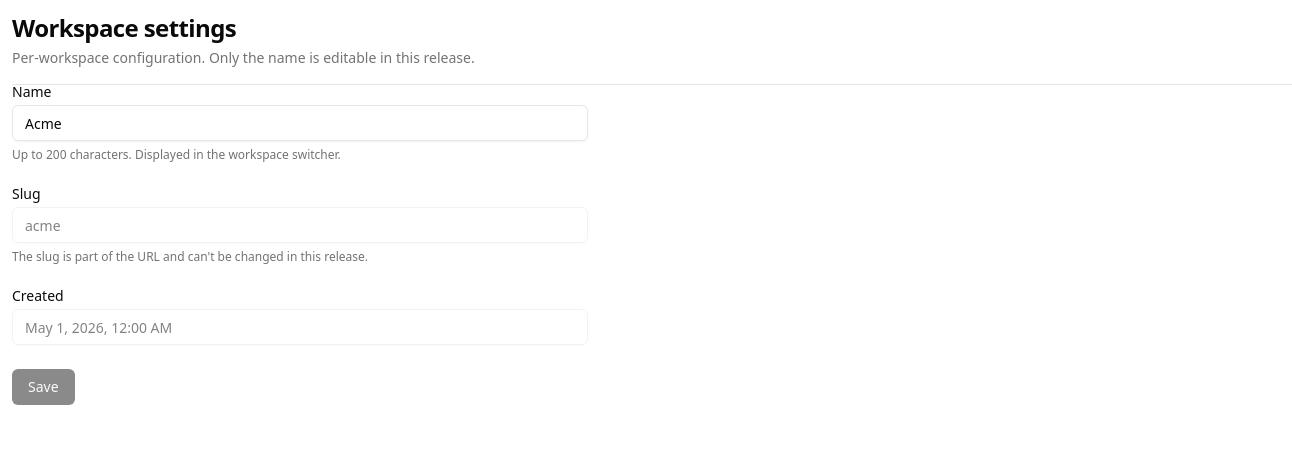
Test: <WorkspaceSettingsPage /> › renders an inline error on 422
The width and height of the screenshot is (1292, 469).
Step 1. Replace the text in the field labelled "Name" with "Acme Corp" → {"x": 300, "y": 123}, box x1=12 y1=105 x2=588 y2=141
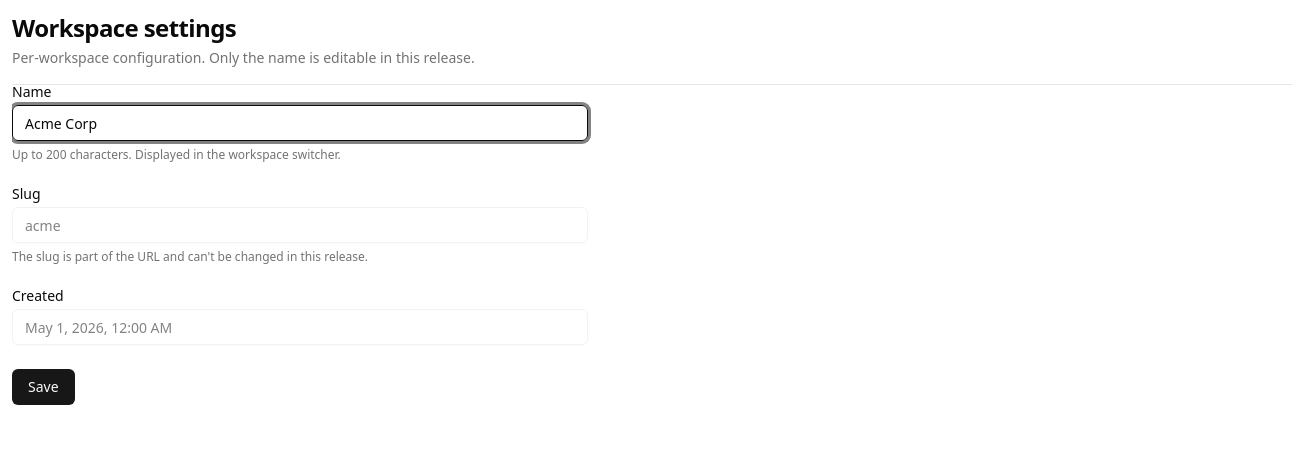
Step 2. Click the button "Save" → {"x": 43, "y": 387}, box x1=12 y1=369 x2=75 y2=405
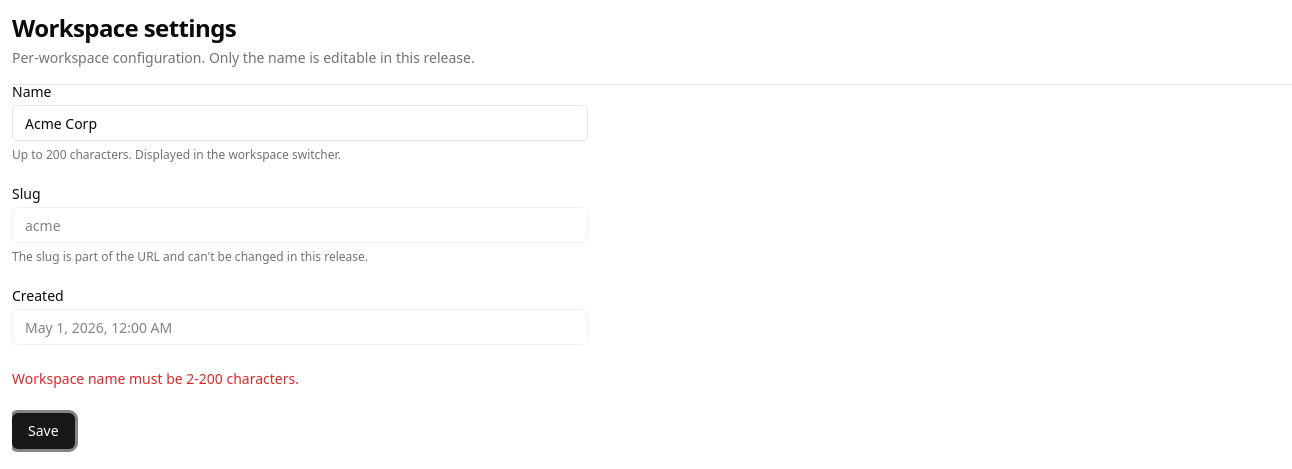
Now the text "Workspace name must be 2-200 characters." is shown, box x1=12 y1=369 x2=299 y2=388
